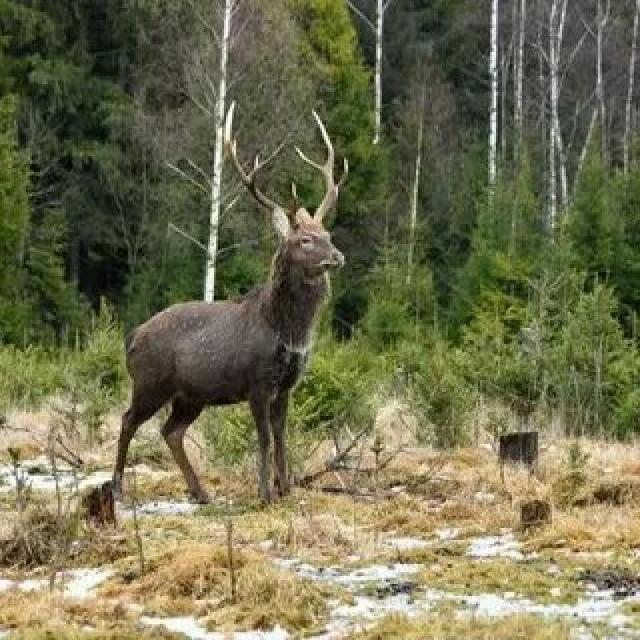deer: (42, 126, 448, 493)
